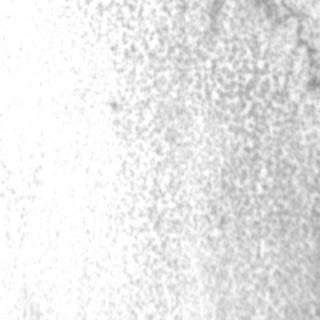pitted_surface: (90, 0, 316, 316)
